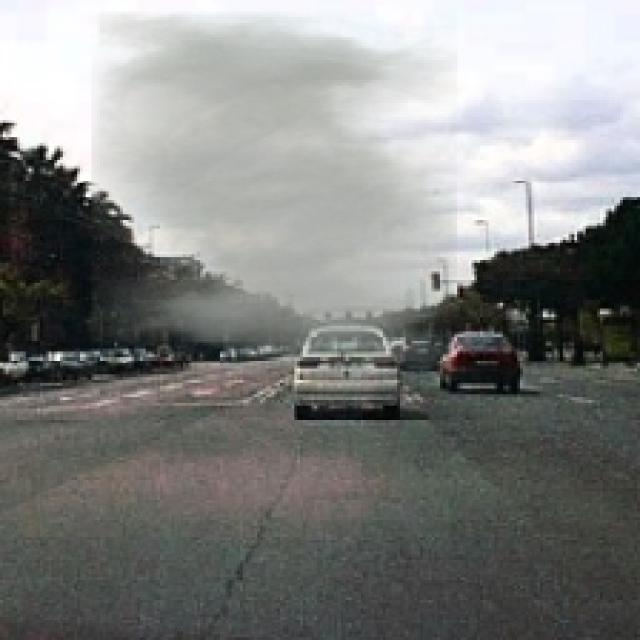smoke: (92, 11, 457, 368)
